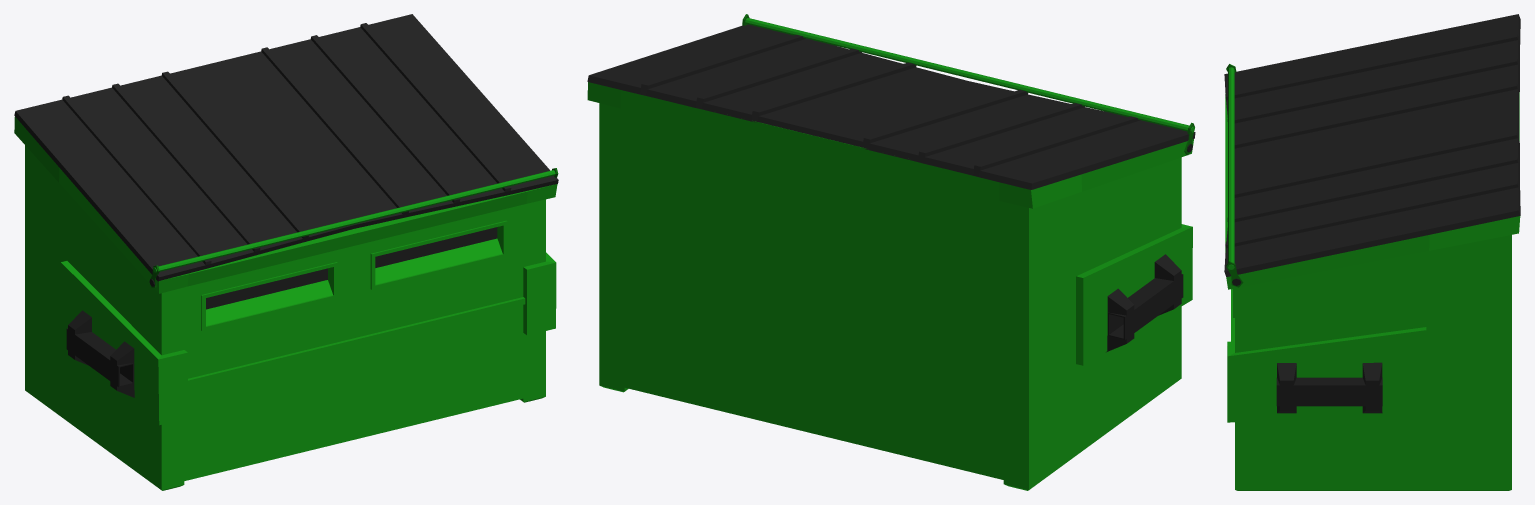
The model's file is dumpster.fbx.
3 views of the same model, side by side, from view 1: azimuth 30°, elevation 25°; view 2: azimuth 150°, elevation 25°; view 3: azimuth 270°, elevation 25° (orthographic). The views are drawn at different scales.
Parts seen in each view (by area): view 1: 4. dumpster; view 2: 4. dumpster; view 3: 4. dumpster.
Boxes of the visible parts, box(x1,y1,x2,y2) form: 4. dumpster: box(14, 14, 558, 490); 4. dumpster: box(587, 14, 1195, 490); 4. dumpster: box(1224, 14, 1520, 490).
Bounding box in the file's own units: 237 × 150 × 140.
1 material, 1 textured.
